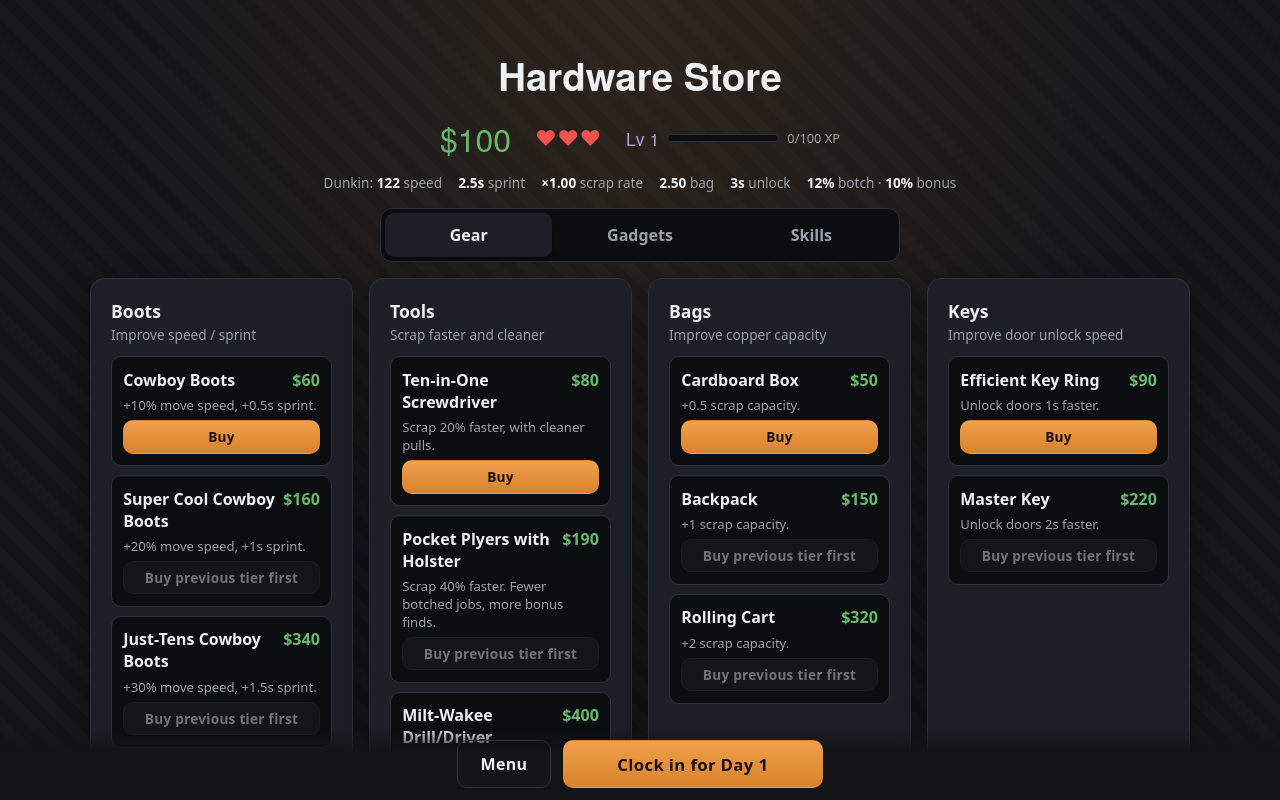
Scenario: ShopScreen › buys an affordable upgrade and locks the next tier until then
This screenshot has width=1280, height=800.
Expected: the button with aria-label "Buy Backpack" is disabled, [681,539,878,572]
What coordinates should you click on to do the following:
click the button with aria-label "Buy Cardboard Box"
I would click on:
 (780, 437)
Its box is [681,420,878,454].
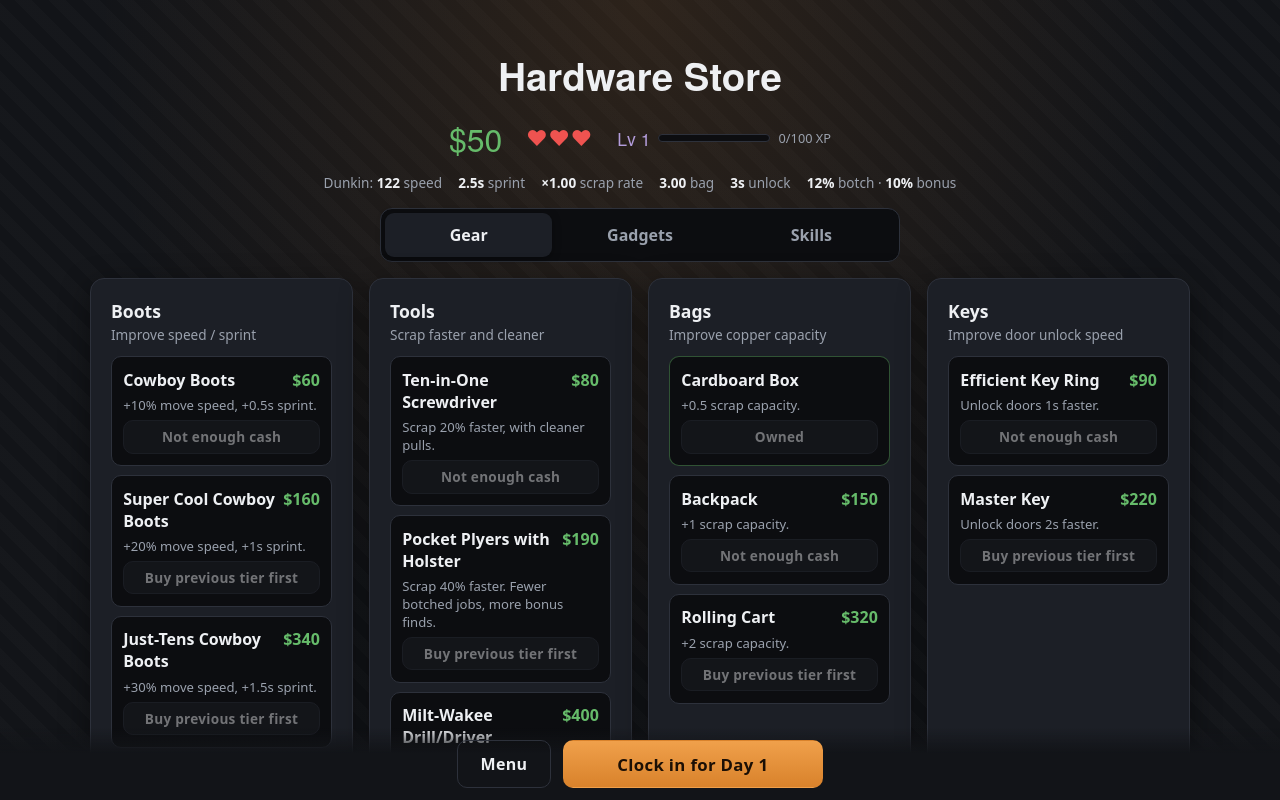
Expected: the text with test id "cash" reads "$50", [449,115,502,161]
Expected: the button with aria-label "Buy Cardboard Box" reads "Owned", [681,420,878,454]
